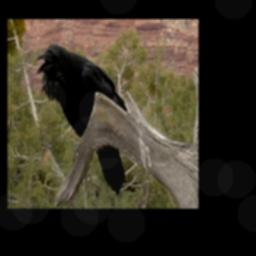Crow: (34, 44, 128, 196)
